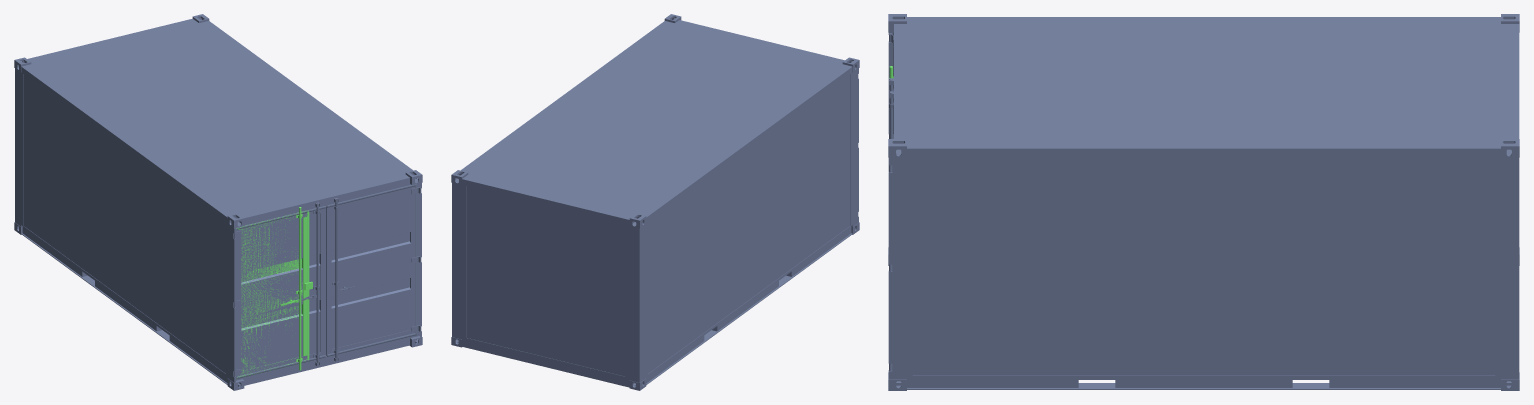
The model's file is Lagercontainer HC 2600 BC 3000.obj.
3 views of the same model, side by side, from view 1: azimuth 30°, elevation 25°; view 2: azimuth 150°, elevation 25°; view 3: azimuth 270°, elevation 25° (orthographic). The views are drawn at different scales.
Parts seen in each view (by area): view 1: |TEst_lagercon~0|Root|Test_Lagercon1~0-1|color, |TEst_lagercon~0|Root|Test_lagercon2~0-1|color-2, |TEst_lagercon~0|Root|SpiegelnTest_lagercon2~0-3|color-4, |TEst_lagercon~0|Root|Test_lagercon3~0-5|color-3; view 2: |TEst_lagercon~0|Root|Test_Lagercon1~0-1|color; view 3: |TEst_lagercon~0|Root|Test_Lagercon1~0-1|color.
Boxes of the visible parts, x1,y1,x2,y2 form: |TEst_lagercon~0|Root|Test_Lagercon1~0-1|color: (14,14,422,390); |TEst_lagercon~0|Root|Test_lagercon2~0-1|color-2: (326,184,421,361); |TEst_lagercon~0|Root|SpiegelnTest_lagercon2~0-3|color-4: (233,202,325,378); |TEst_lagercon~0|Root|Test_lagercon3~0-5|color-3: (236,207,312,378); |TEst_lagercon~0|Root|Test_Lagercon1~0-1|color: (451,14,859,390); |TEst_lagercon~0|Root|Test_Lagercon1~0-1|color: (888,14,1519,390).
Size of the model in its own units: 3 by 2.59 by 6.06.
